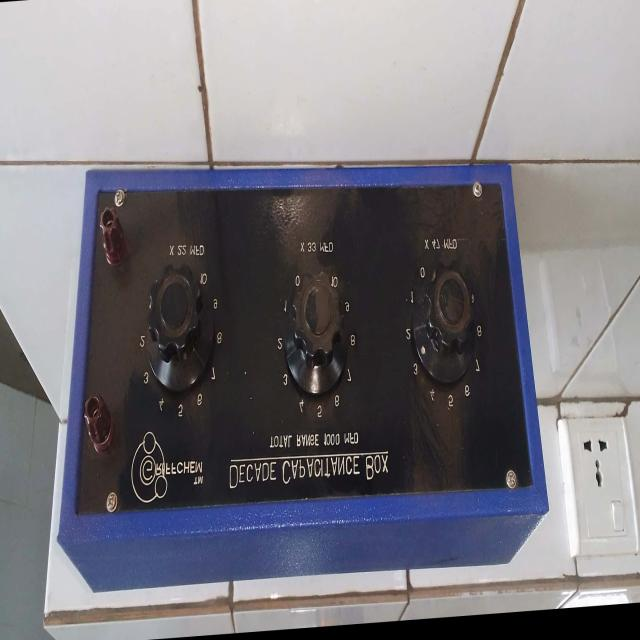Decade Capacitor Box: (48, 122, 557, 612)
